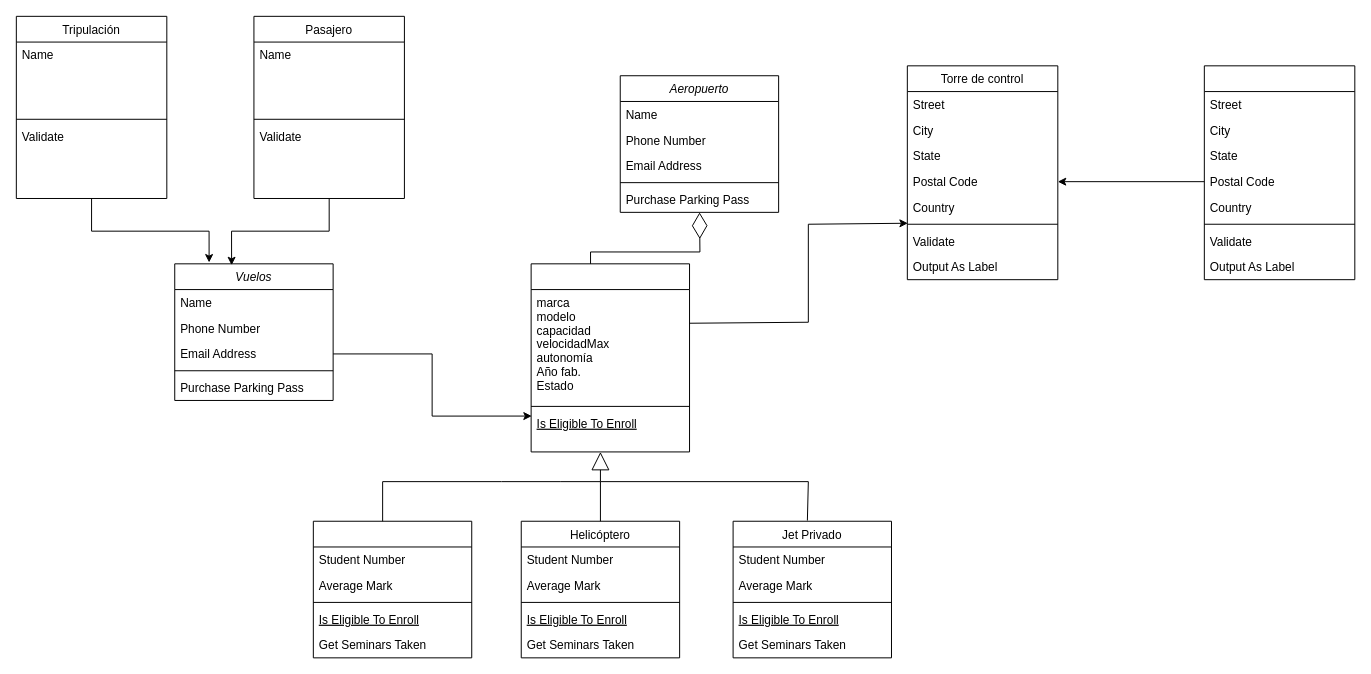
The diagram is 1371 pixels wide and 674 high, and some of its shapes have lost their labels. The box of each missing label's shape, as (x1, y1, x2, y2) in pixels:
Aeronave: (530, 263, 690, 452)
Avión: (312, 520, 472, 658)
Puerta de Embarque: (1203, 65, 1355, 280)
